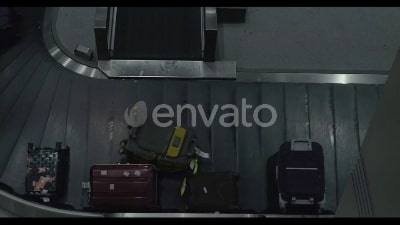baggage: (120, 108, 214, 169), (76, 160, 160, 211), (273, 140, 330, 211), (174, 170, 244, 214), (24, 138, 66, 204)
